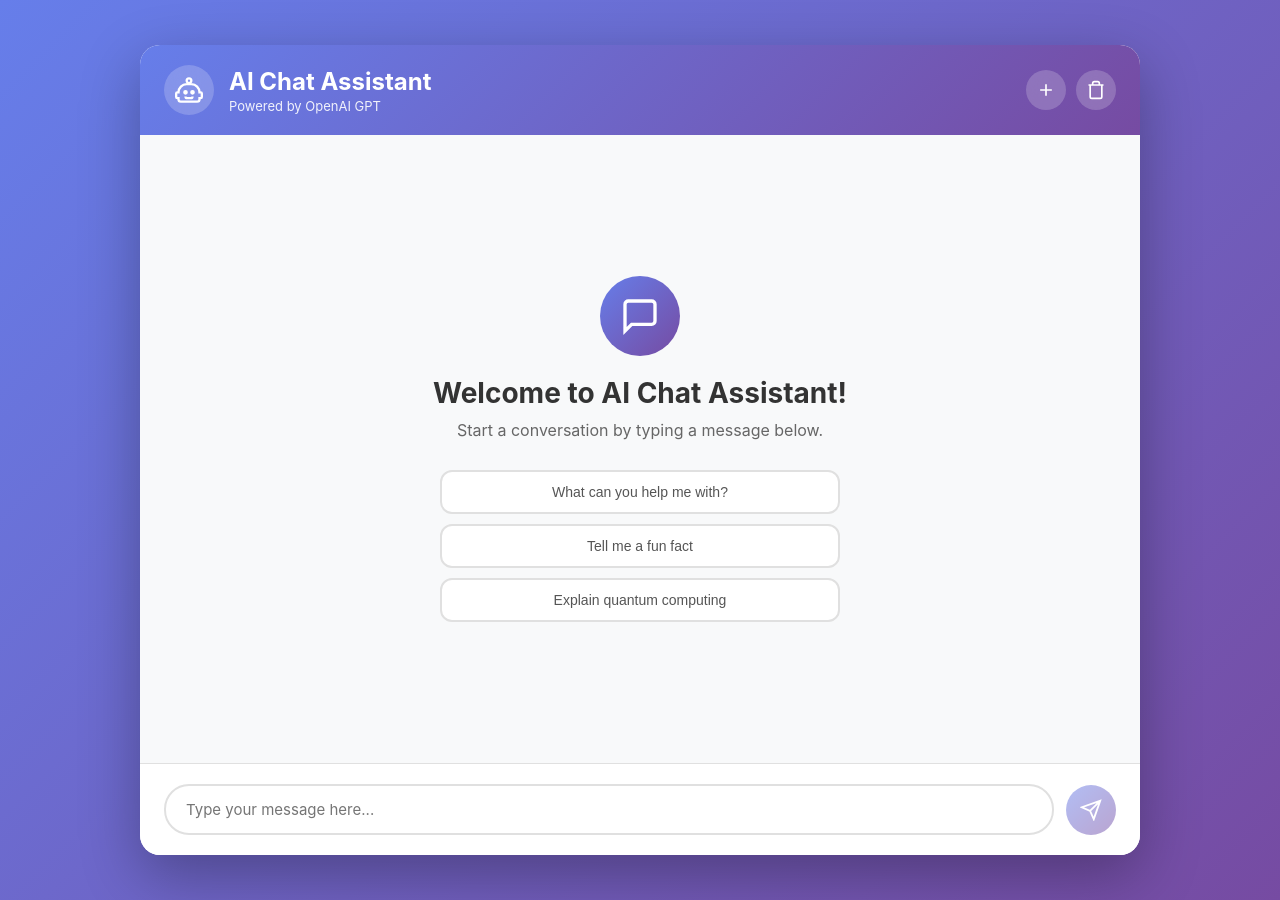
Test: App Component › clears chat when clear button is clicked
This screenshot has width=1280, height=900.
In the field with placeholder "Type your message here...": (609, 810) left=164, top=784, right=1054, bottom=835, type "Test"
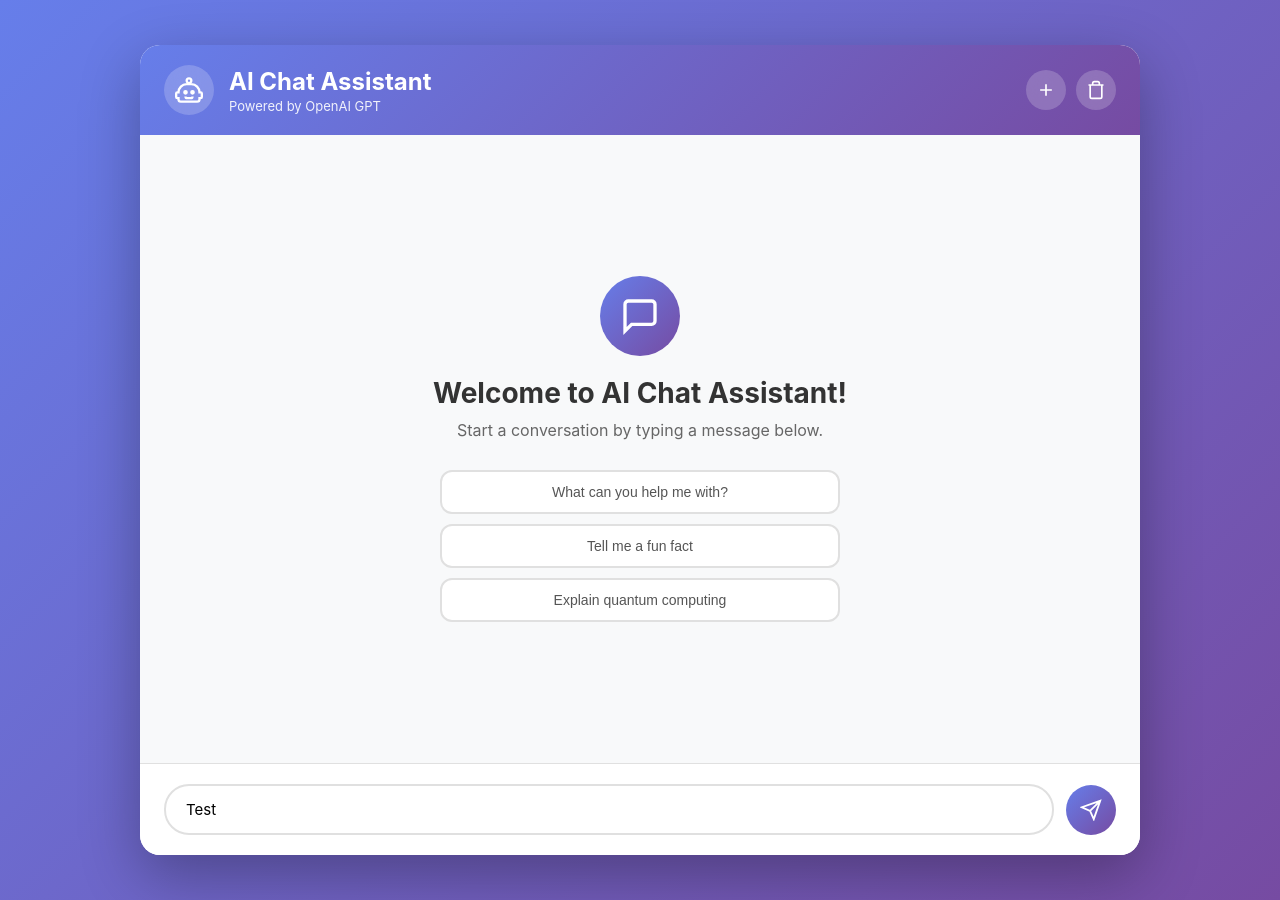
Submit the form with placeholder "Type your message here...", box left=164, top=784, right=1116, bottom=835
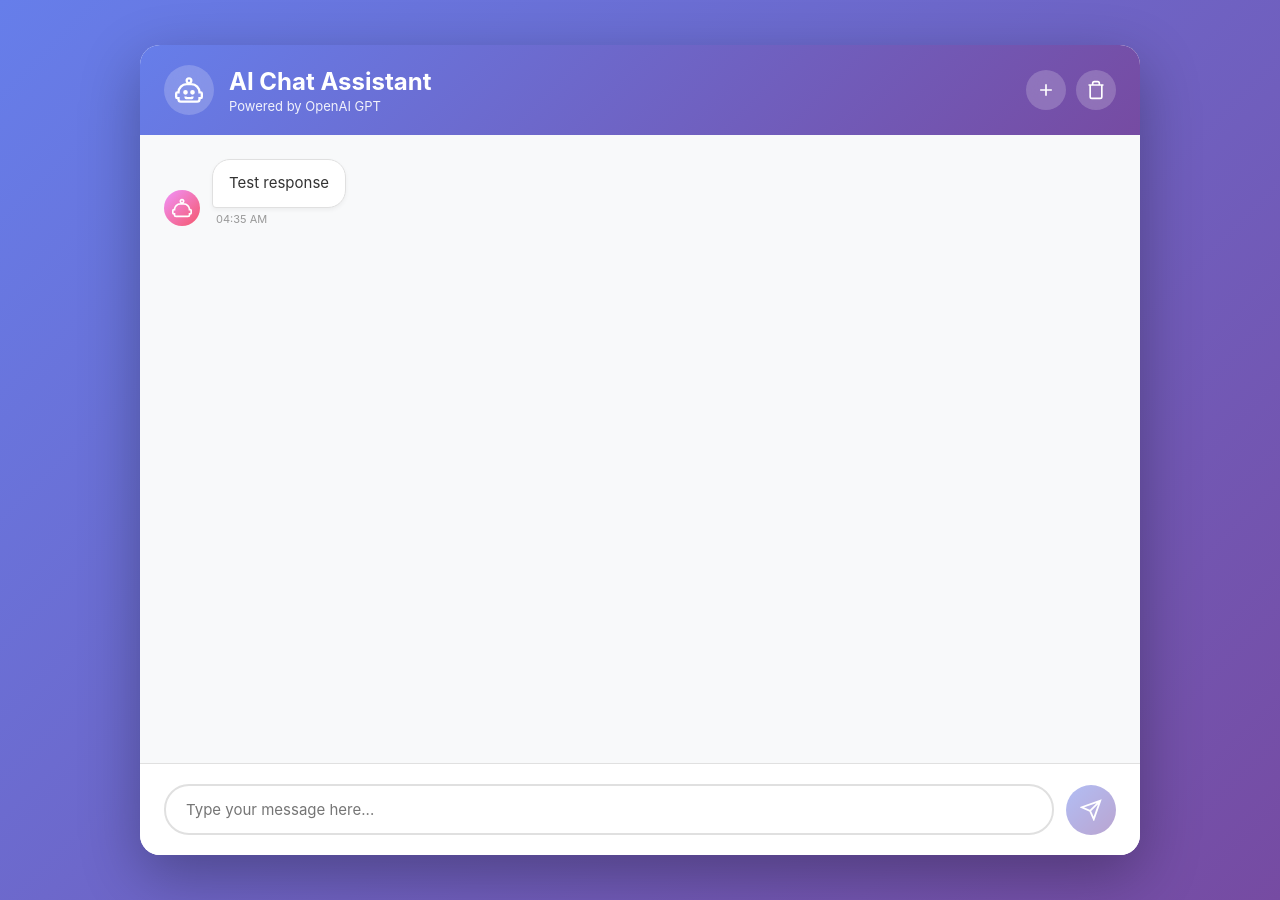
Result: the text "Test response" is shown at left=212, top=159, right=346, bottom=208
Note: Click clear button
Click the button titled "Clear Chat": (1096, 90) left=1076, top=70, right=1116, bottom=110
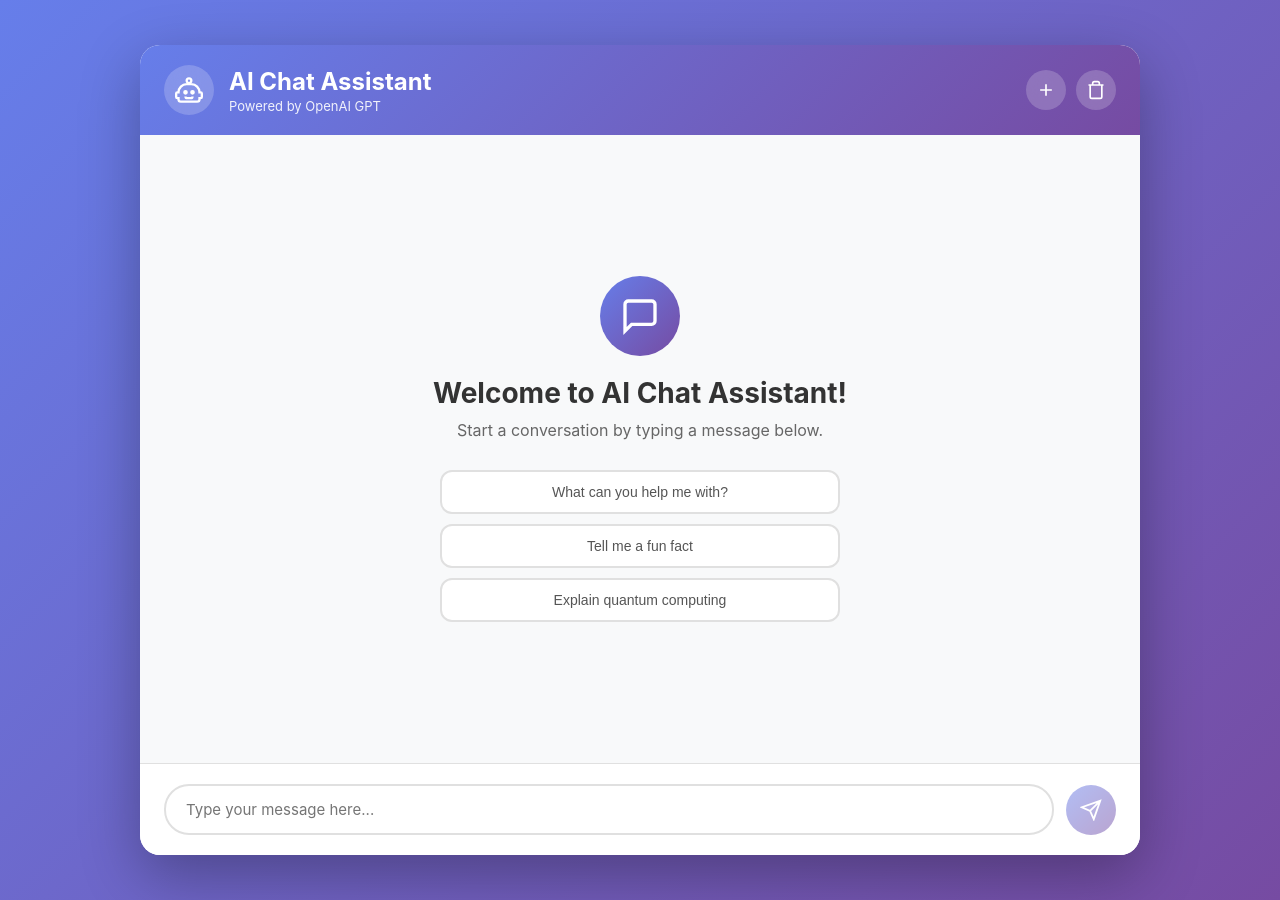
Result: the text "Test response" is gone
